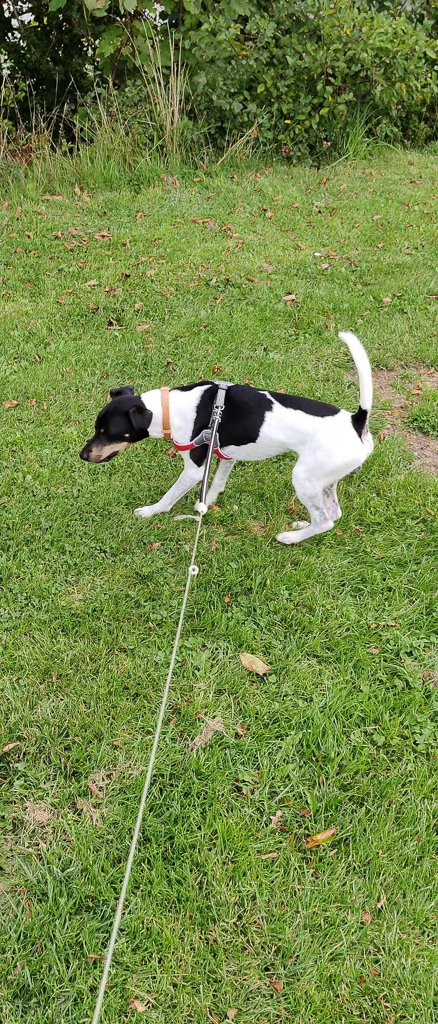Dog: (69, 319, 385, 562)
